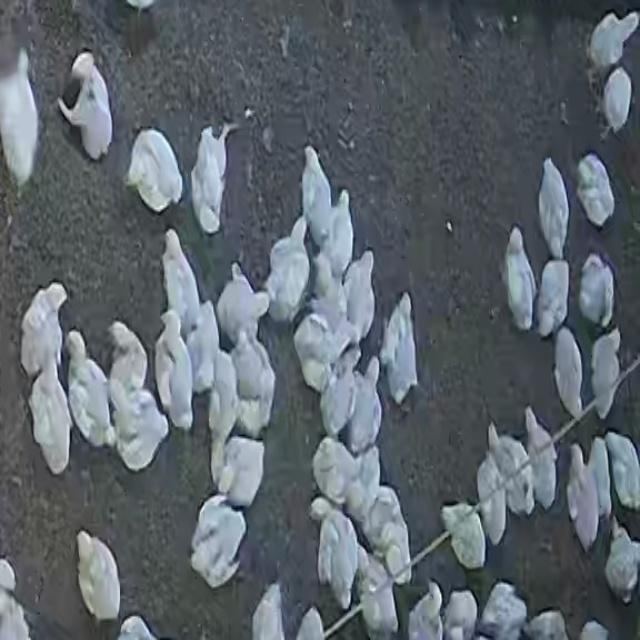chicken: (106, 321, 170, 470), (66, 330, 118, 451), (189, 493, 250, 590), (292, 300, 353, 394), (152, 309, 196, 435), (29, 355, 74, 475), (230, 326, 276, 438), (160, 228, 205, 342), (190, 125, 237, 233), (264, 215, 313, 318), (20, 285, 69, 386), (129, 130, 189, 212), (362, 486, 413, 582), (484, 421, 532, 522), (0, 52, 37, 183), (314, 504, 360, 607), (216, 262, 271, 348), (69, 54, 114, 159), (379, 293, 419, 407), (75, 531, 123, 624), (207, 328, 240, 458), (318, 348, 363, 439), (213, 435, 266, 508), (300, 145, 336, 250), (345, 356, 384, 452), (503, 228, 537, 332), (186, 299, 220, 403), (566, 445, 600, 547), (311, 436, 360, 505), (312, 241, 350, 327), (342, 251, 376, 347), (474, 457, 509, 550), (357, 562, 400, 637), (525, 408, 557, 508), (589, 328, 623, 422), (538, 160, 570, 257), (576, 152, 616, 229), (553, 327, 585, 422), (440, 503, 484, 572), (590, 10, 640, 70), (604, 522, 640, 604), (476, 582, 526, 640), (577, 254, 614, 332), (345, 447, 382, 525), (534, 258, 570, 338), (604, 431, 640, 510), (0, 558, 34, 634), (327, 191, 355, 280), (407, 581, 445, 640), (601, 66, 633, 136), (586, 438, 612, 522), (439, 586, 478, 639), (251, 585, 287, 640), (523, 609, 569, 640), (118, 614, 162, 640), (294, 608, 326, 640), (578, 619, 611, 640)
